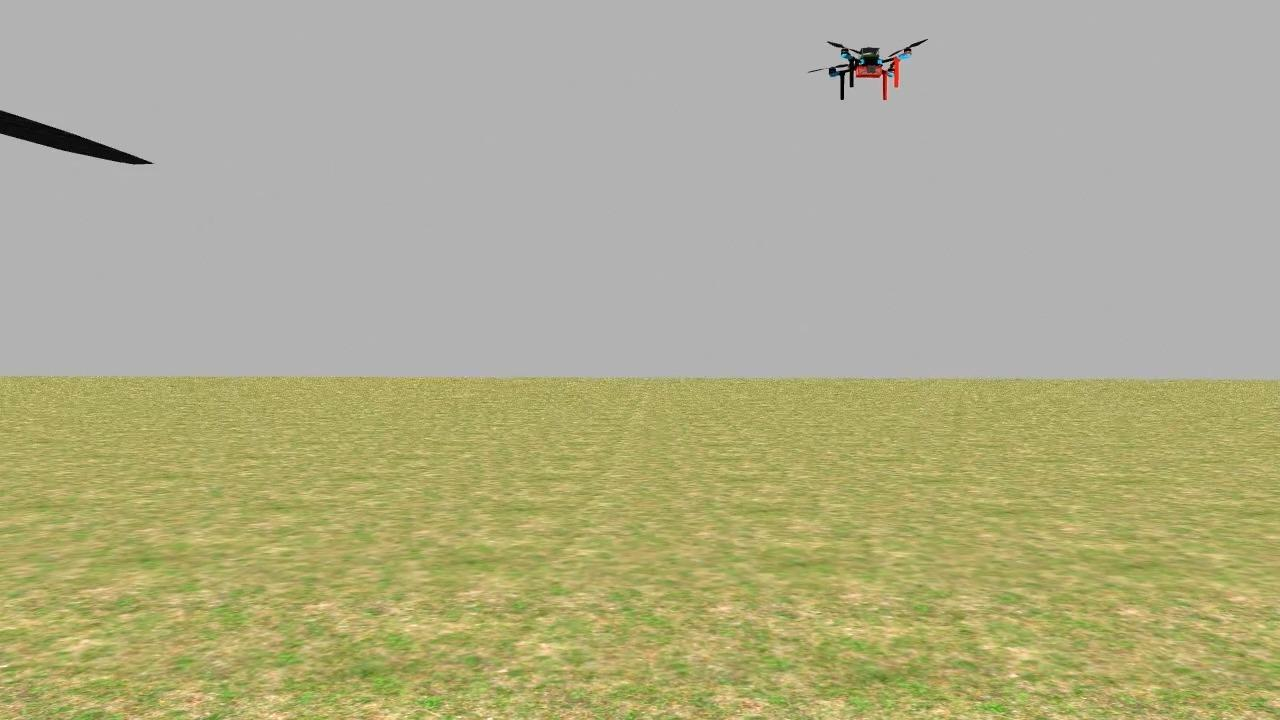UAV: (818, 31, 924, 100)
